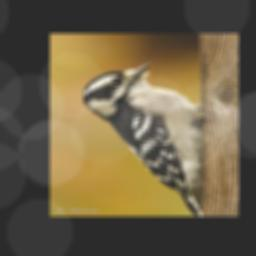Woodpecker: (81, 61, 212, 215)
